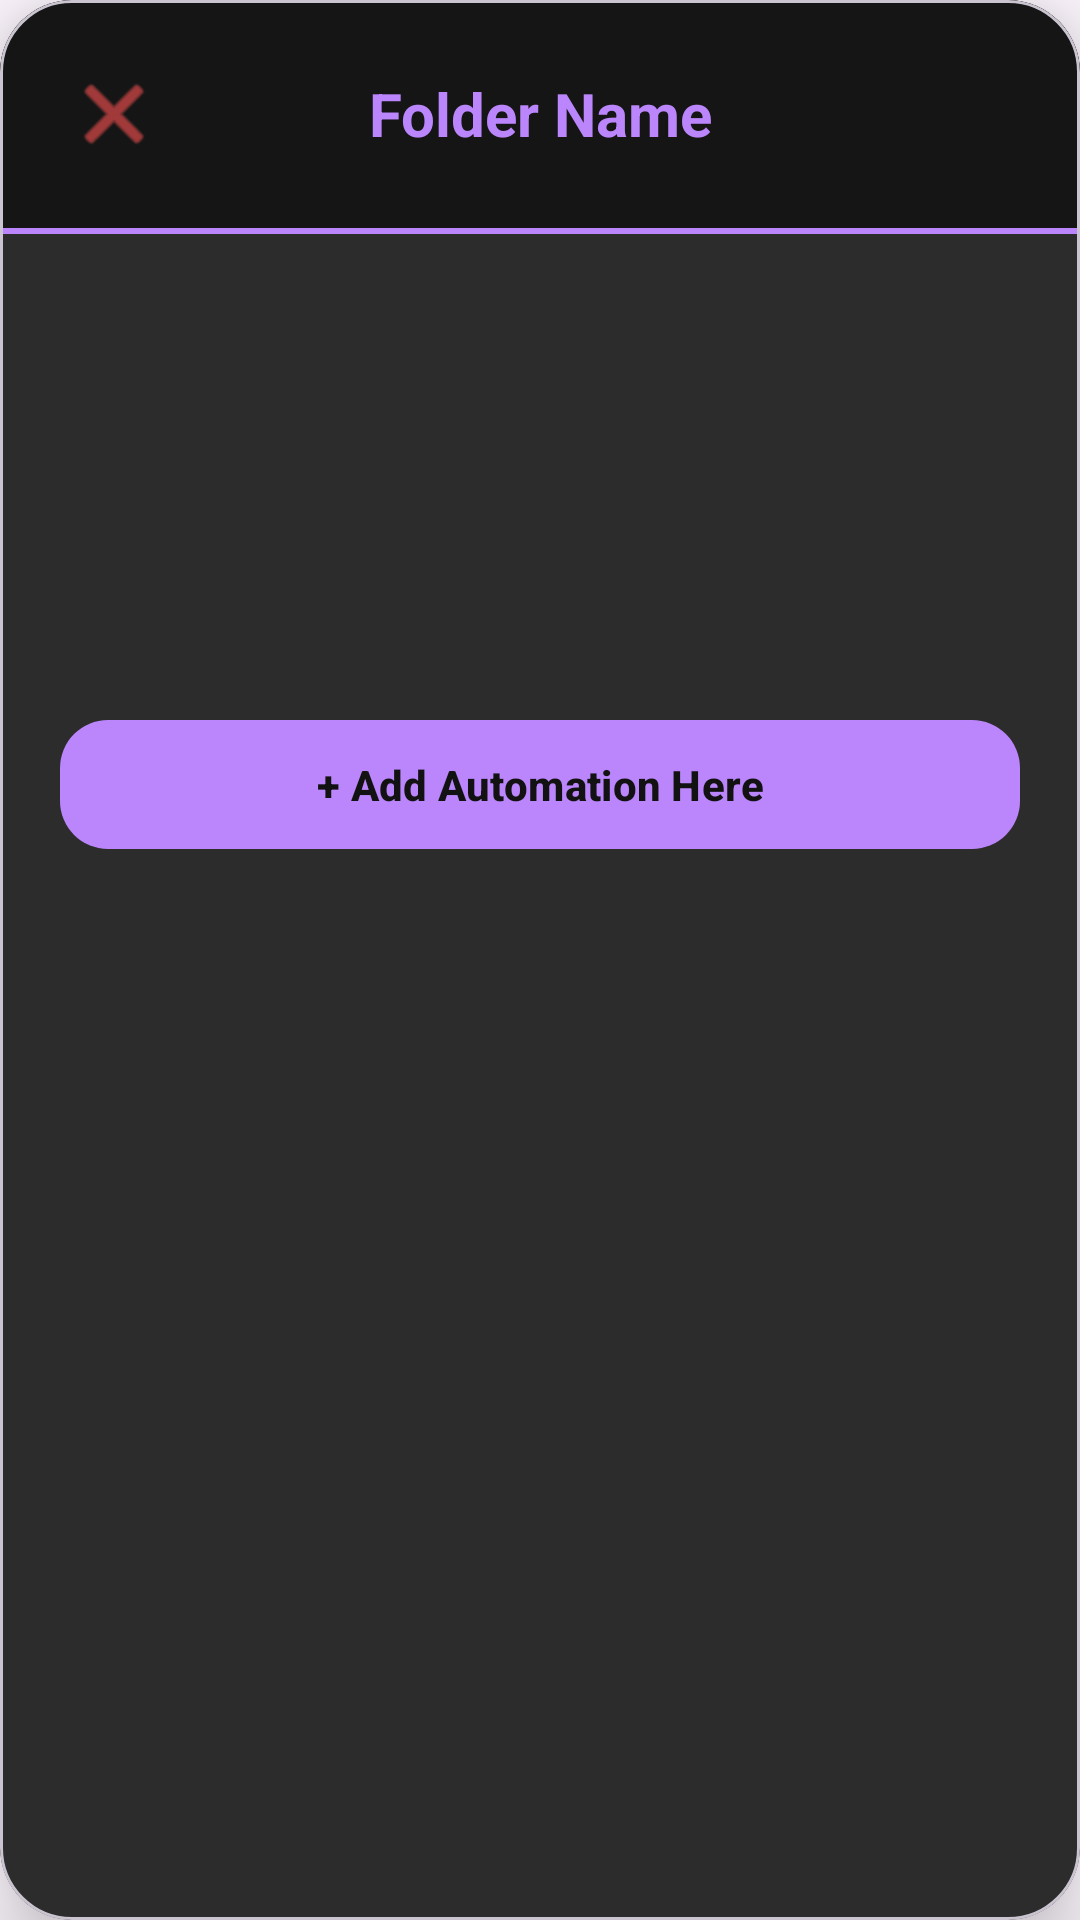

Screen size 1080 × 1920. Icon name, then its center in pixels as point (x, y):
close clear cancel: point (114, 114)
